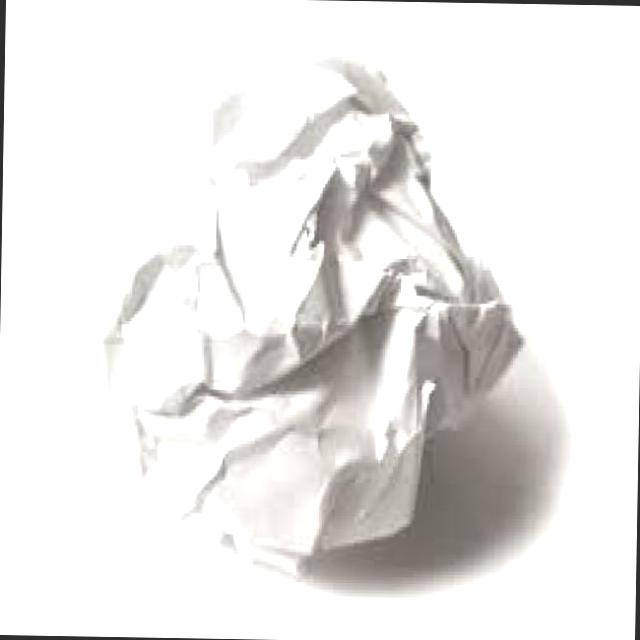trash: (90, 43, 526, 579)
